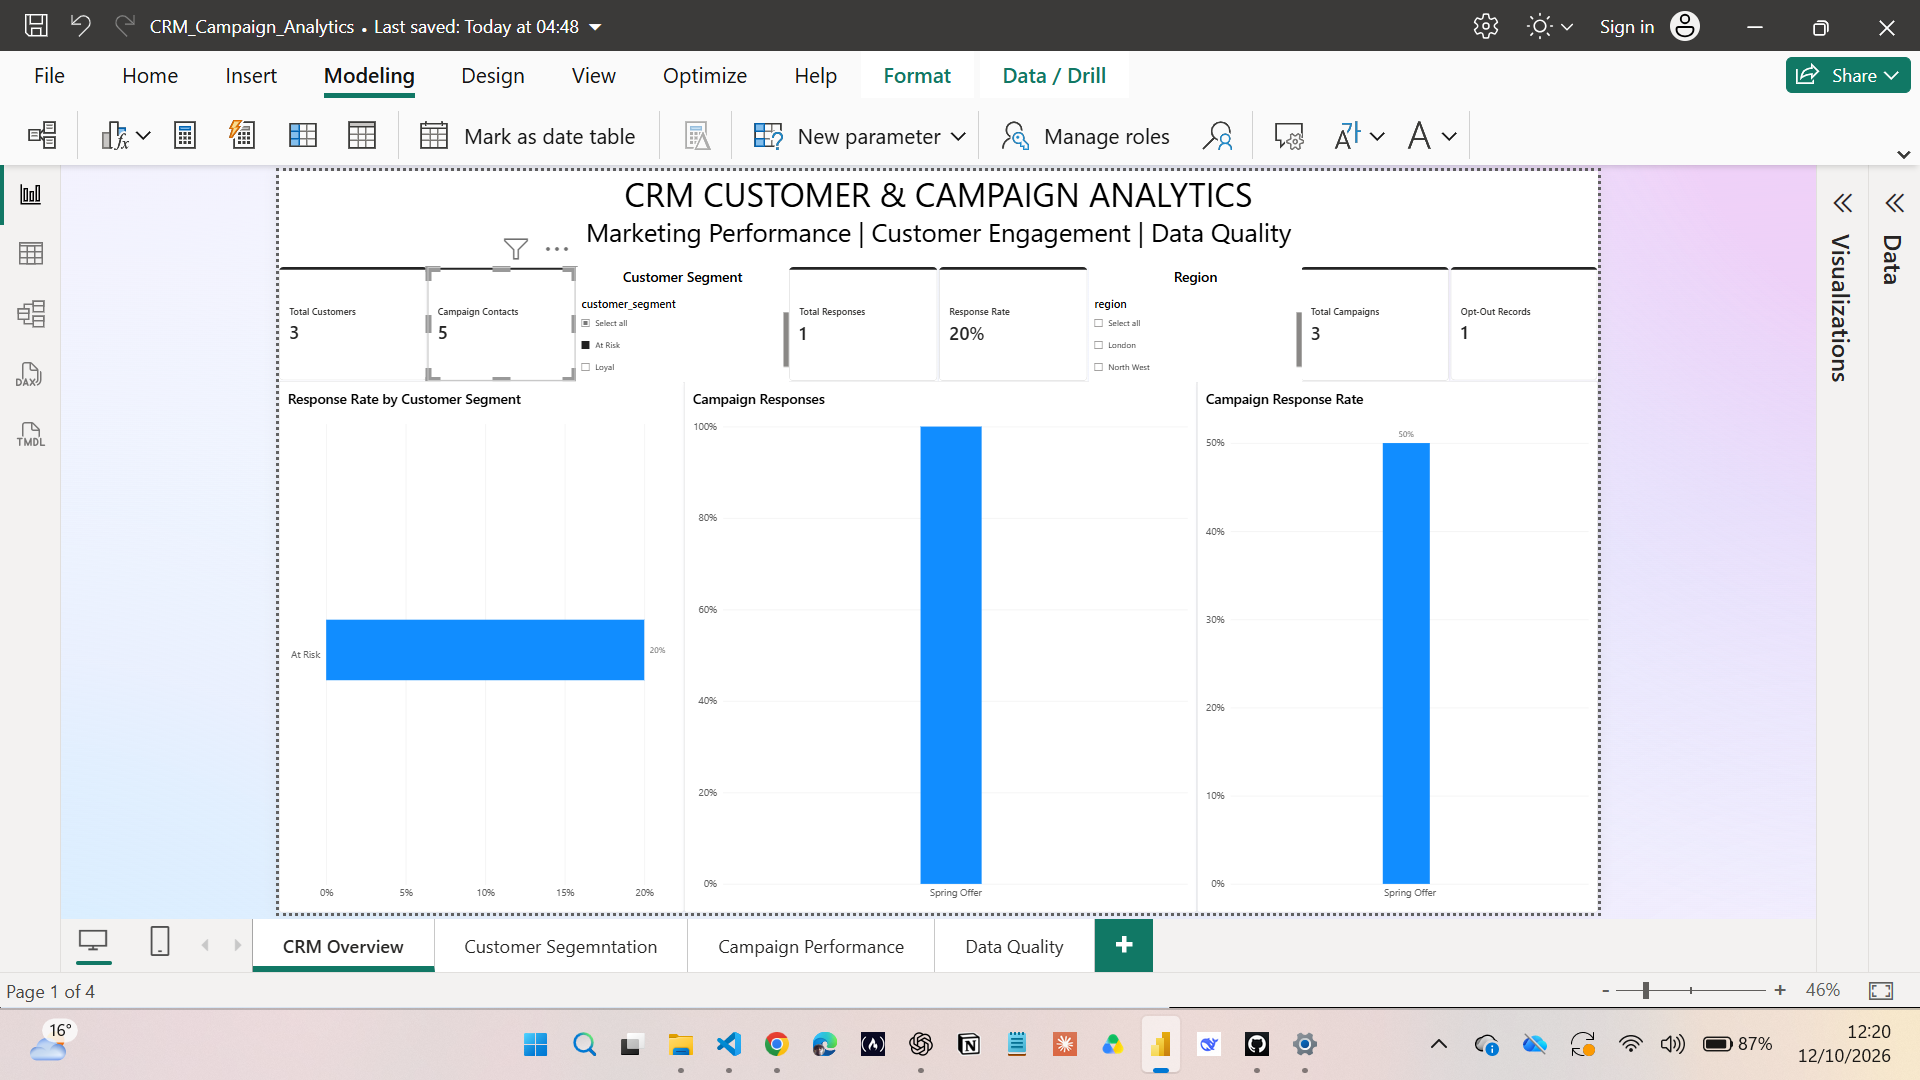

This screenshot's page, from the dashboard's own definition file:
{"tool":"powerbi","page":{"name":"CRM Overview","canvas":[1920,1080],"ordinal":0},"visuals":[{"type":"textbox","box":[0,0,1920,140],"z":0},{"type":"cardVisual","fields":{"Data":["customers.Total Customers"]},"box":[0,139.7,216.2,165.9],"z":1000},{"type":"cardVisual","fields":{"Data":["campaign_activity.Total Campaigns"]},"box":[1486.7,140,216.7,166.7],"z":2000},{"type":"cardVisual","fields":{"Data":["campaign_activity.Total Responses"]},"box":[743.3,140,216.7,166.7],"z":3000},{"type":"cardVisual","fields":{"Data":["campaign_activity.Opt-Out Records"]},"box":[1705.4,139.3,214.6,165.6],"z":4000},{"type":"cardVisual","fields":{"Data":["campaign_activity.Campaign Contacts"]},"box":[216.2,139.7,216.2,165.9],"z":5000},{"type":"cardVisual","fields":{"Data":["customers.Response Rate"]},"box":[960,140,216.7,166.7],"z":6000},{"type":"clusteredBarChart","title":"Response Rate by Customer Segment","fields":{"Category":["customers.customer_segment"],"Y":["customers.Response Rate"]},"box":[0,306.7,590,773.3],"z":7000},{"type":"clusteredColumnChart","title":"Campaign Responses","fields":{"Category":["campaign_activity.campaign_name"],"Y":["campaign_activity.Total Responses"]},"box":[590,306.7,746.7,773.3],"z":8000},{"type":"clusteredColumnChart","title":"Campaign Response Rate","fields":{"Category":["campaign_activity.campaign_name"],"Y":["customers.Response Rate"]},"box":[1336.7,306.7,583.3,773.3],"z":9000},{"type":"slicer","title":"Region","fields":{"Values":["customers.region"]},"box":[1180,140,310,166.7],"z":10000},{"type":"slicer","title":"Customer Segment","fields":{"Values":["customers.customer_segment"]},"box":[433.3,140,310,166.7],"z":11000}]}

Visuals, with their boxes on the page's 1920x1080 design canvas (x1, y1, x2, y2). These are canvas units, not pixel positions in the 1920x1080 screenshot, which may show the page scaled, cropped or inside an application window:
textbox: 0, 0, 1920, 140
cardVisual - customers.Total Customers: 0, 140, 216, 306
cardVisual - campaign_activity.Total Campaigns: 1487, 140, 1703, 307
cardVisual - campaign_activity.Total Responses: 743, 140, 960, 307
cardVisual - campaign_activity.Opt-Out Records: 1705, 139, 1920, 305
cardVisual - campaign_activity.Campaign Contacts: 216, 140, 432, 306
cardVisual - customers.Response Rate: 960, 140, 1177, 307
"Response Rate by Customer Segment" clusteredBarChart: 0, 307, 590, 1080
"Campaign Responses" clusteredColumnChart: 590, 307, 1337, 1080
"Campaign Response Rate" clusteredColumnChart: 1337, 307, 1920, 1080
"Region" slicer: 1180, 140, 1490, 307
"Customer Segment" slicer: 433, 140, 743, 307
